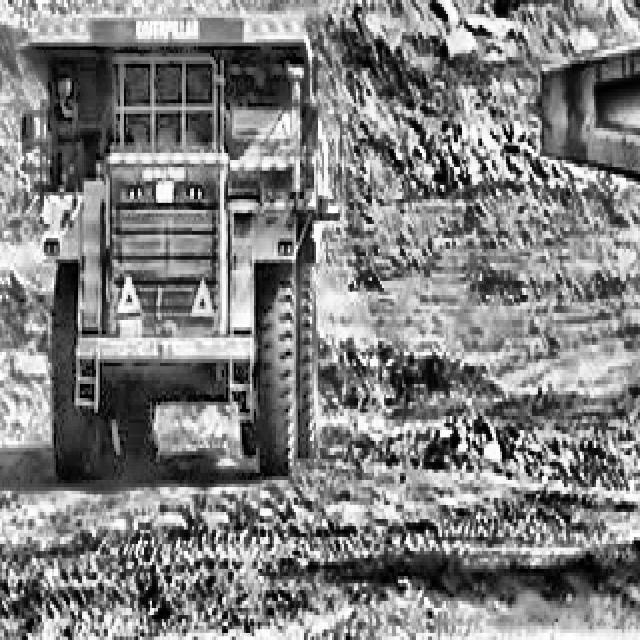dump_truck: (11, 13, 332, 471), (524, 0, 640, 558)
